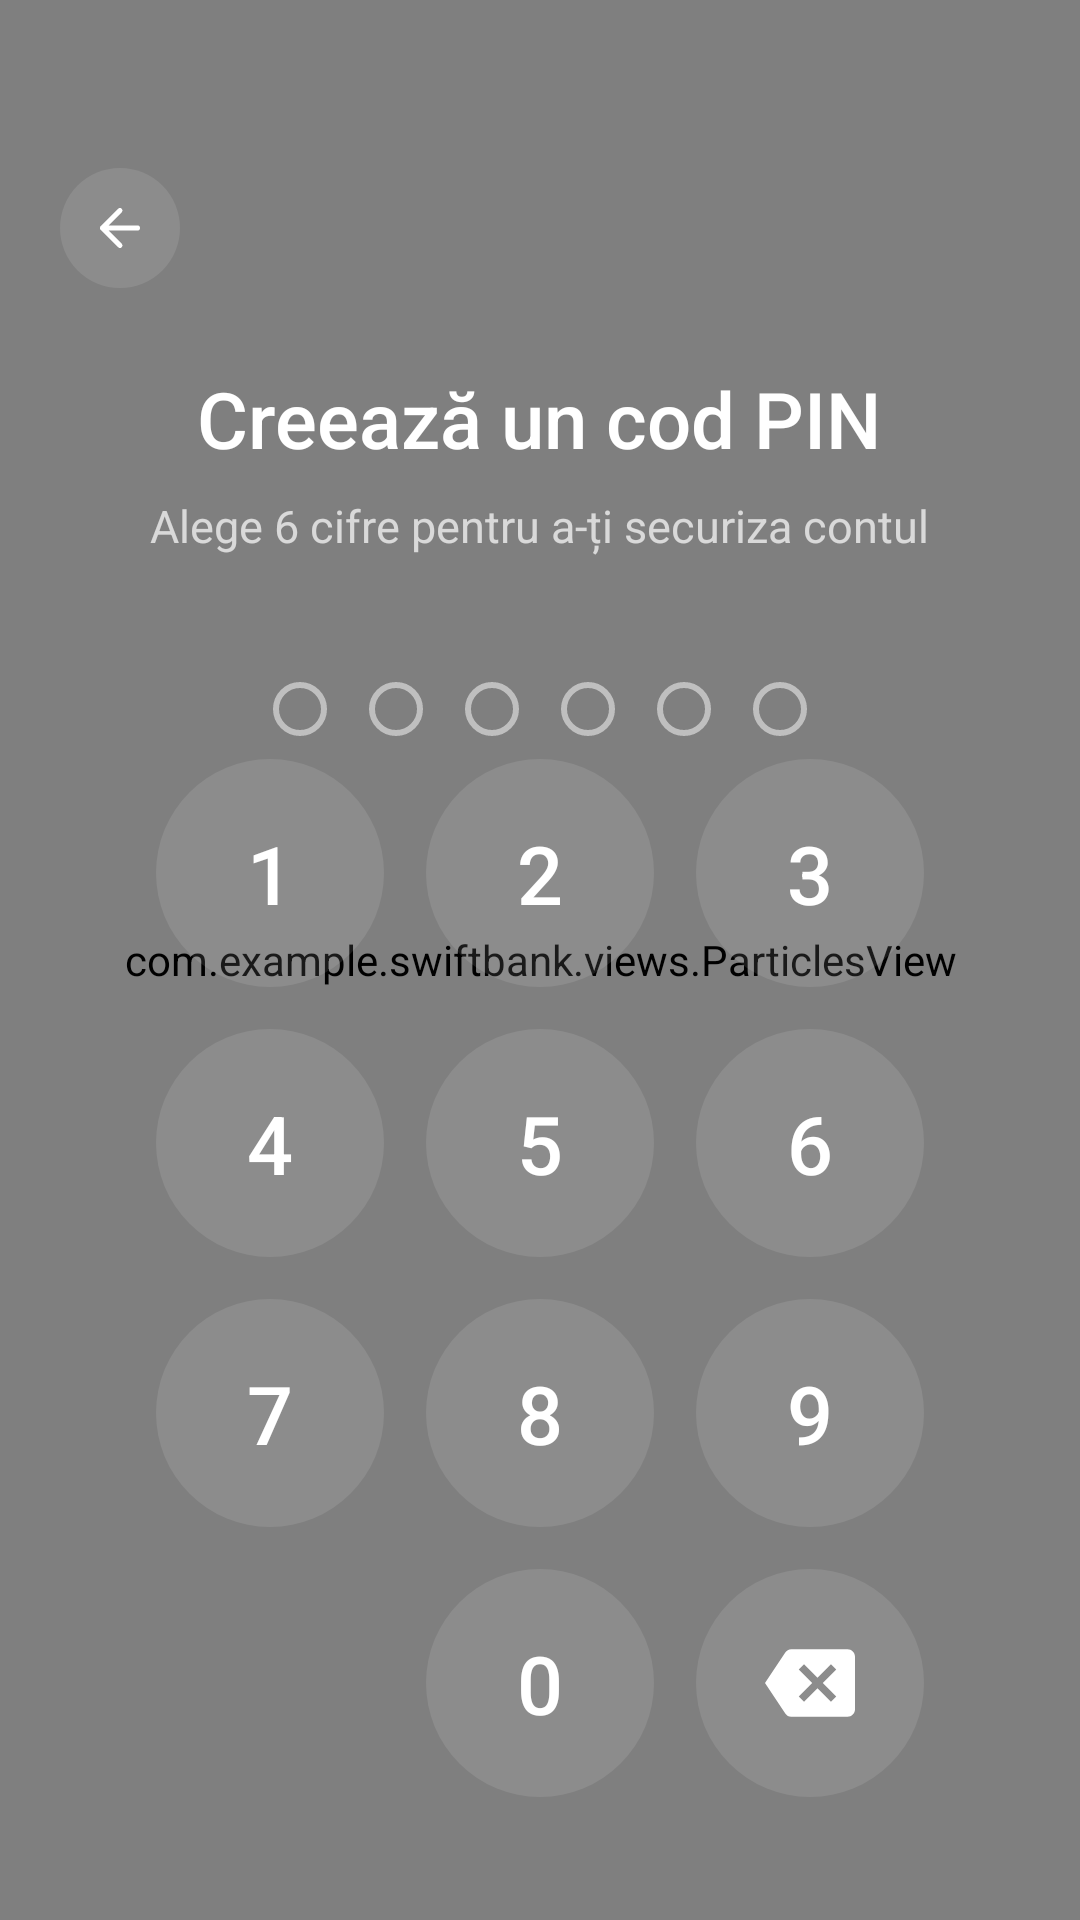

Named icons in this screenshot (1080×1920) and their bounding boxes, (x1=x1, y1=y1, x2=x2, y2=y2):
pin dot empty: (x1=273, y1=682, x2=327, y2=736), (x1=369, y1=682, x2=423, y2=736), (x1=465, y1=682, x2=519, y2=736), (x1=561, y1=682, x2=615, y2=736), (x1=657, y1=682, x2=711, y2=736), (x1=753, y1=682, x2=807, y2=736)
Înapoi: (x1=60, y1=168, x2=180, y2=288)
Șterge: (x1=765, y1=1649, x2=855, y2=1717)
